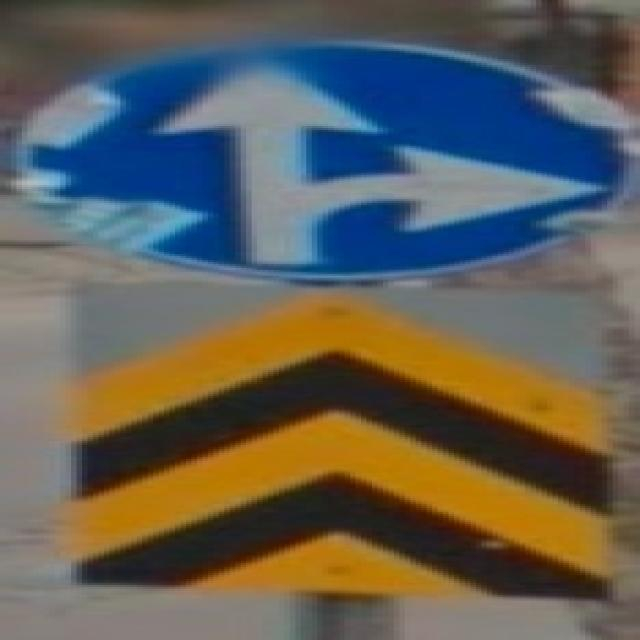Straight or Right: (26, 41, 606, 276)
